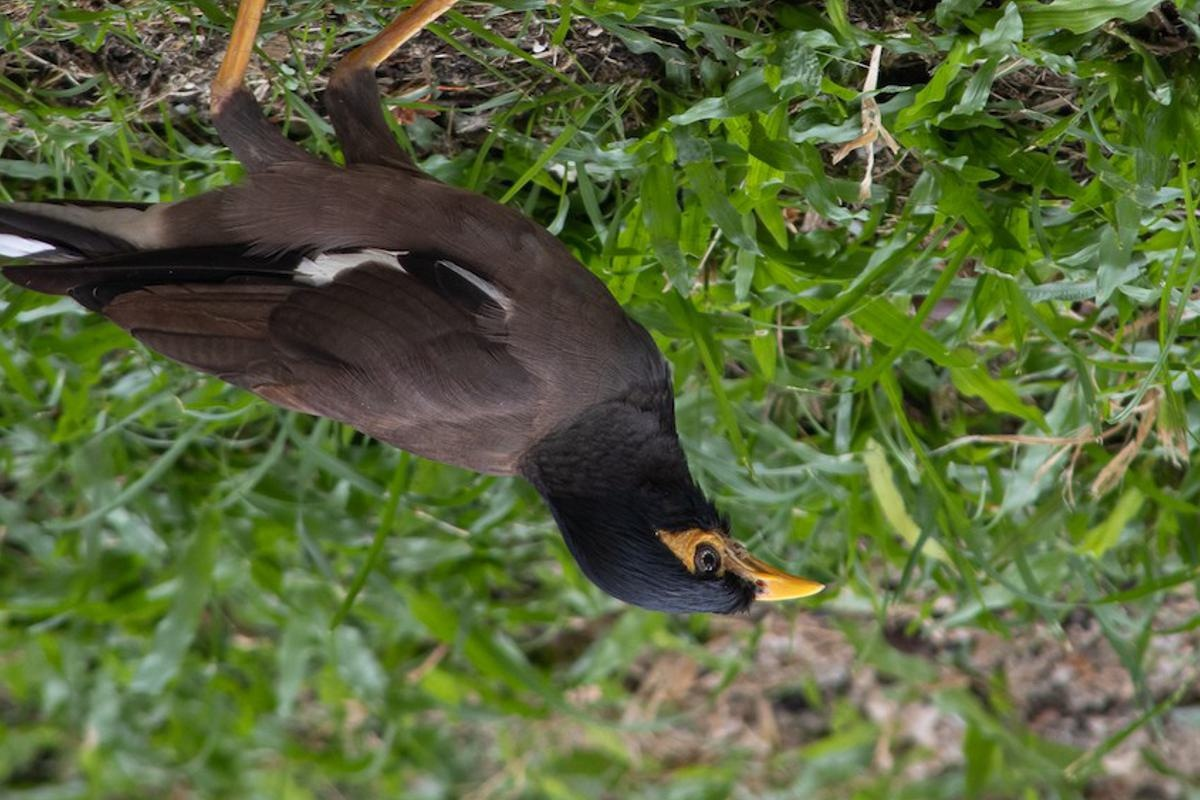myna: (147, 96, 805, 624)
